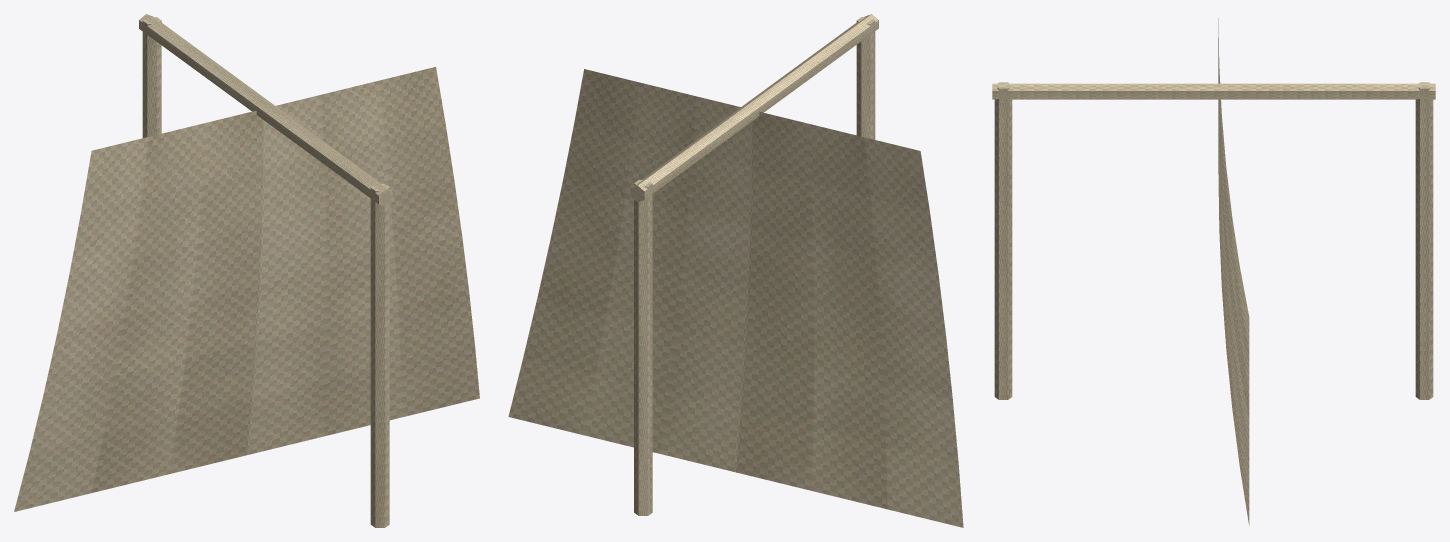
The model's file is tenda.glb.
3 views of the same model, side by side, from view 1: azimuth 30°, elevation 25°; view 2: azimuth 150°, elevation 25°; view 3: azimuth 270°, elevation 25° (orthographic). The views are drawn at different scales.
Visible parts, largest first — view 1: Cloth_Tent, TentFrame; view 2: Cloth_Tent, TentFrame; view 3: TentFrame, Cloth_Tent.
Part boxes in pixels (bbox=[...]): Cloth_Tent: bbox=[14, 67, 479, 511]; TentFrame: bbox=[139, 14, 393, 527]; Cloth_Tent: bbox=[508, 69, 963, 527]; TentFrame: bbox=[630, 14, 878, 515]; TentFrame: bbox=[992, 82, 1435, 399]; Cloth_Tent: bbox=[1218, 18, 1249, 525].
Bounding box in the file's own units: 2.24 × 1.69 × 2.
2 materials, 2 textured.
